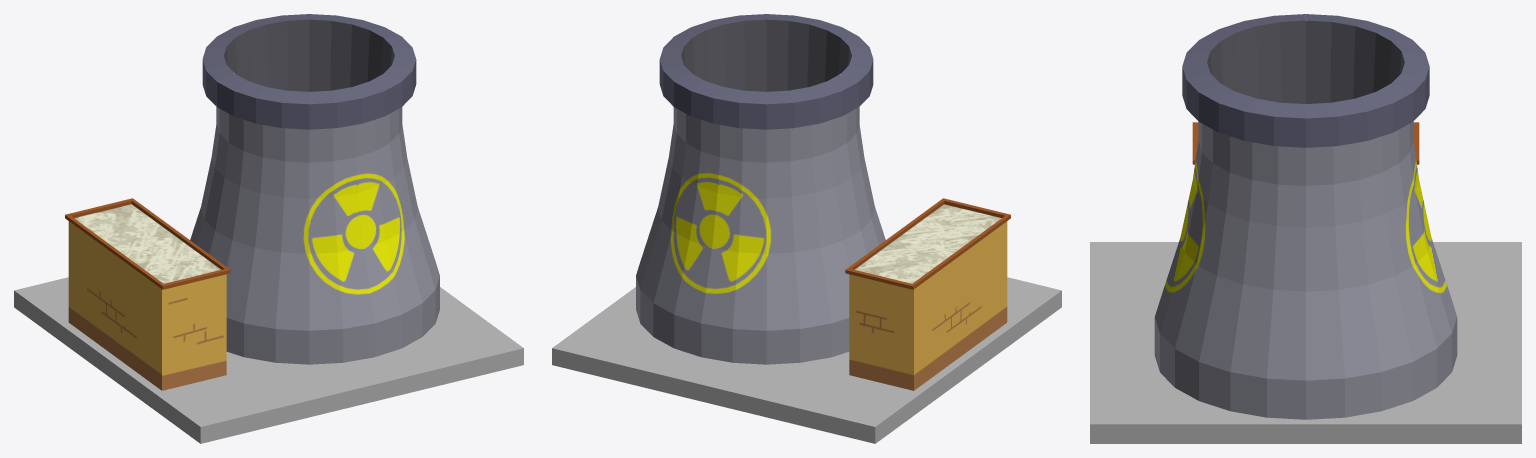
The model's file is NuclearPlant02.fbx.
3 renders of one model, left to right at view 1: azimuth 30°, elevation 25°; view 2: azimuth 150°, elevation 25°; view 3: azimuth 270°, elevation 25°, orthographic. The views are drawn at different scales.
Parts seen in each view (by area): view 1: NuclearPlant; view 2: NuclearPlant; view 3: NuclearPlant.
Part boxes in pixels (x1,y1,x2,y2): NuclearPlant: (14,14,523,443); NuclearPlant: (552,14,1061,443); NuclearPlant: (1090,14,1521,443).
Bounding box in the file's own units: 200 × 160 × 200.
